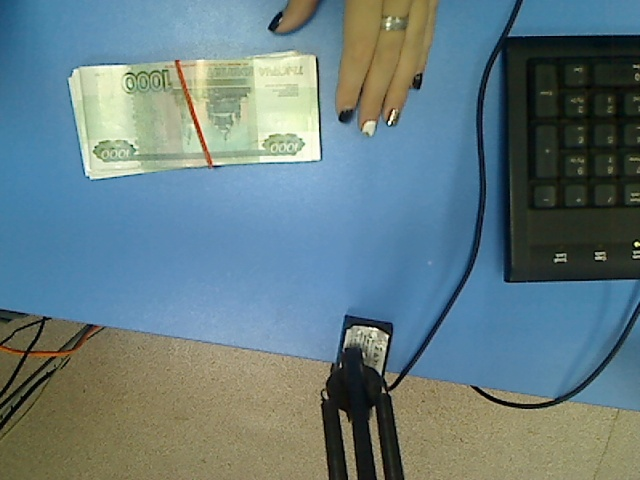banknotes: (65, 49, 325, 181)
